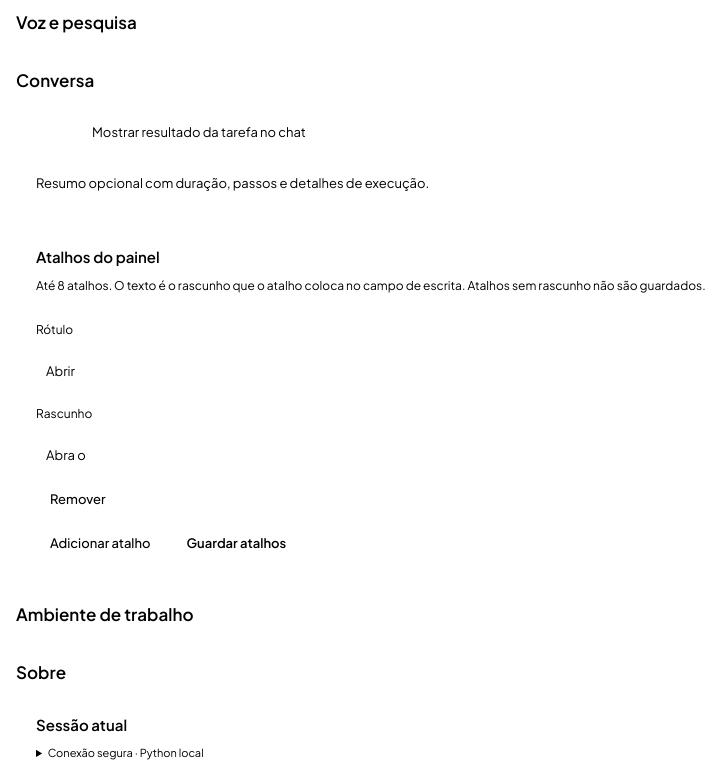
Test case: confiança nas Configurações › edição de atalho por gravar é guardada ao sair da página
(page scrolled)
Replace the text in the field with test id "action-label-0" with "Novo" at (236, 371), box x1=36 y1=349 x2=436 y2=393
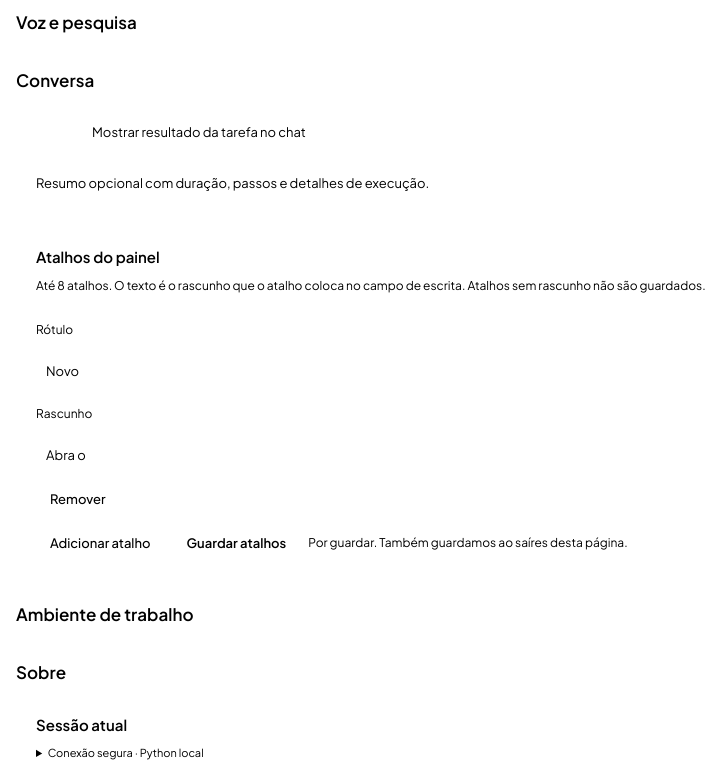
Expected: the text "Por guardar. Também guardamos ao saíres desta página." is shown, x1=308 y1=535 x2=628 y2=550
